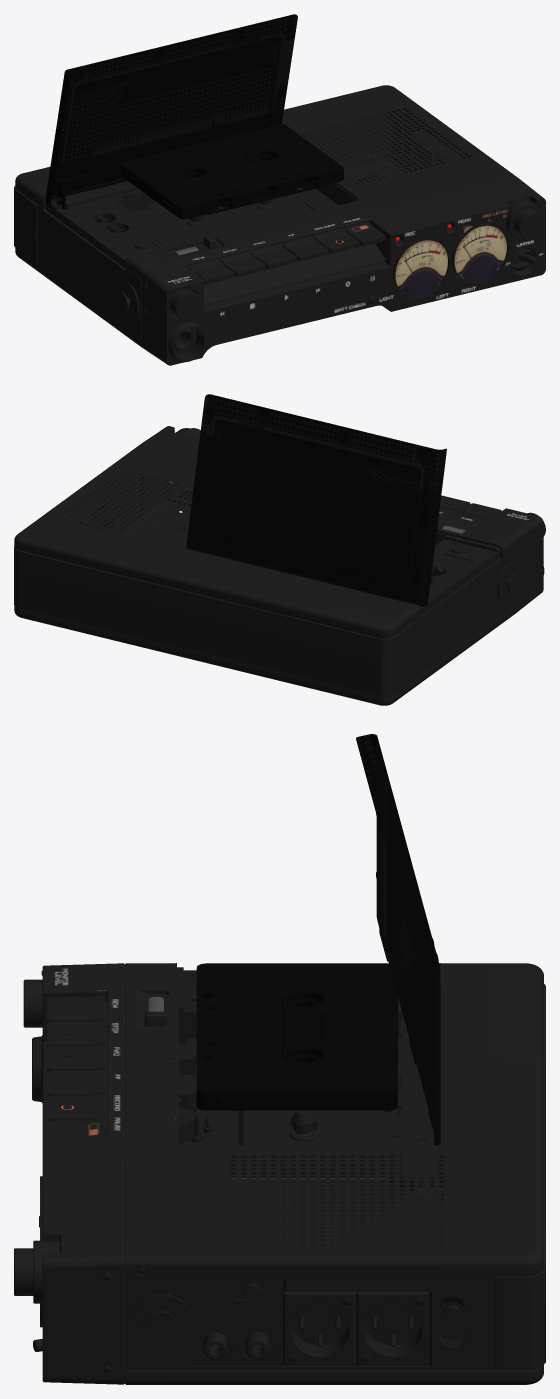
Rendered from TAPE.glb.
3 renders of one model, top to bottom at view 1: azimuth 30°, elevation 25°; view 2: azimuth 150°, elevation 25°; view 3: azimuth 270°, elevation 25°, orthographic. The views are drawn at different scales.
Parts seen in each view (by area): view 1: tape, cap1, Cassette, stop, ff, record, forward, rewind, pause; view 2: tape, cap1, rewind, stop; view 3: tape, Cassette, cap1, record, stop, forward, rewind, ff, pause.
Part boxes in pixels (x1=…): tape: x1=14, y1=85, x2=545, y2=365; cap1: x1=45, y1=14, x2=297, y2=209; Cassette: x1=121, y1=124, x2=343, y2=219; stop: x1=217, y1=251, x2=266, y2=276; ff: x1=280, y1=236, x2=328, y2=261; record: x1=311, y1=228, x2=360, y2=253; forward: x1=249, y1=244, x2=297, y2=269; rewind: x1=187, y1=259, x2=234, y2=284; pause: x1=343, y1=222, x2=385, y2=246; tape: x1=14, y1=426, x2=545, y2=705; cap1: x1=186, y1=394, x2=448, y2=606; rewind: x1=455, y1=503, x2=501, y2=521; stop: x1=439, y1=495, x2=470, y2=513; tape: x1=14, y1=963, x2=545, y2=1384; Cassette: x1=196, y1=963, x2=397, y2=1110; cap1: x1=356, y1=734, x2=440, y2=1145; record: x1=47, y1=1093, x2=107, y2=1125; stop: x1=47, y1=1019, x2=107, y2=1051; forward: x1=47, y1=1044, x2=107, y2=1076; rewind: x1=47, y1=995, x2=107, y2=1026; ff: x1=47, y1=1069, x2=107, y2=1100; pause: x1=47, y1=1118, x2=107, y2=1138.
Bounding box in the file's own units: 0.2231 × 0.1202 × 0.1616.
Materials: 3 (3 with a texture image).
